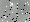person: (7, 5, 13, 14)
